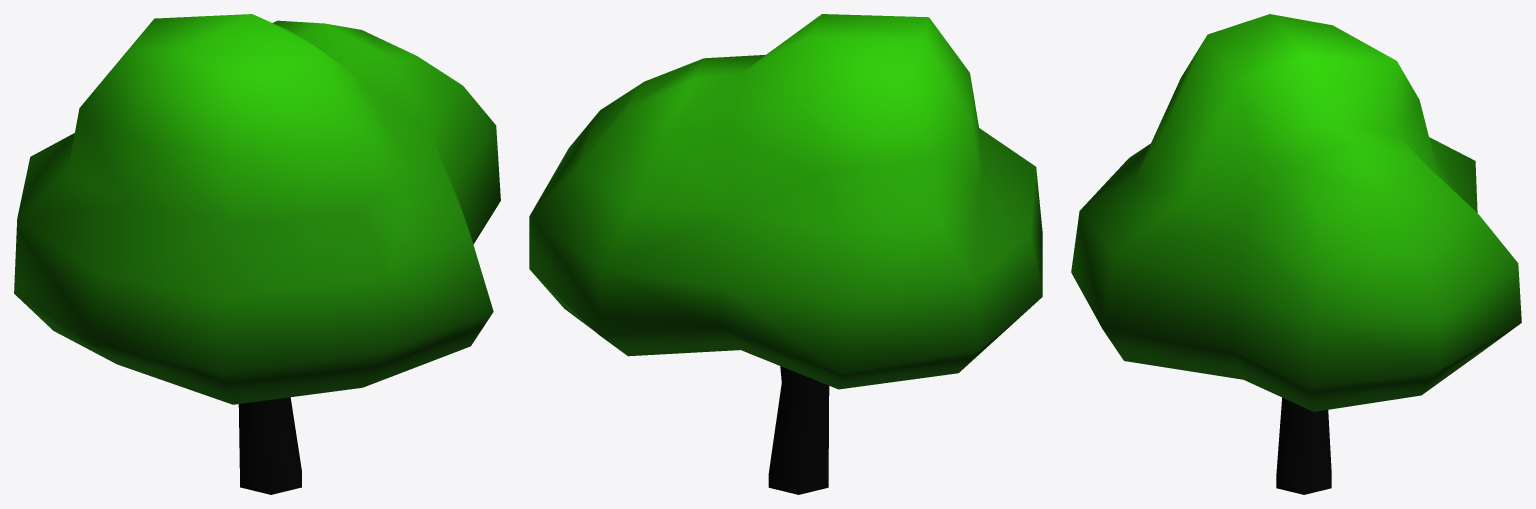
The model's file is Universal_Plant_Tree_07_Mod.fbx.
The picture shows the model from 3 angles, left to right: view 1: azimuth 30°, elevation 25°; view 2: azimuth 150°, elevation 25°; view 3: azimuth 270°, elevation 25°; orthographic projection. The views are drawn at different scales.
Visible parts, largest first — view 1: Universal_Plant_Tree_07_Mod; view 2: Universal_Plant_Tree_07_Mod; view 3: Universal_Plant_Tree_07_Mod.
Boxes of the visible parts, x1,y1,x2,y2 form: Universal_Plant_Tree_07_Mod: (14,14,500,494); Universal_Plant_Tree_07_Mod: (529,14,1042,494); Universal_Plant_Tree_07_Mod: (1071,14,1521,494).
Bounding box in the file's own units: 598 × 588 × 573.
